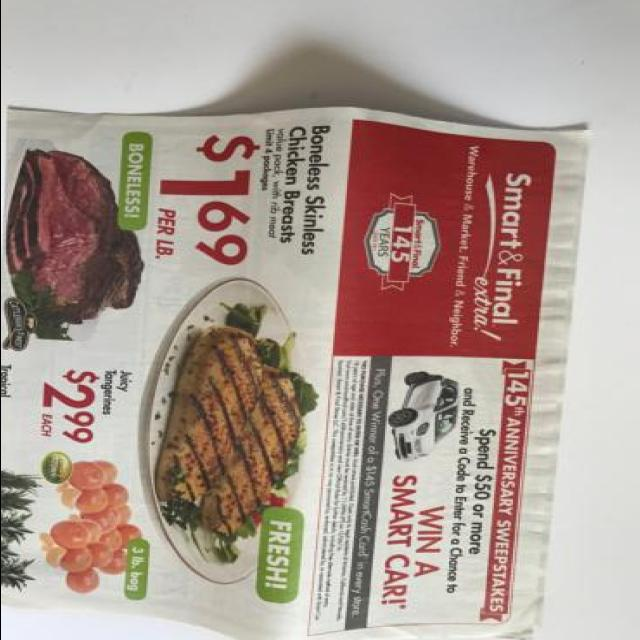kertas: (0, 104, 586, 640)
